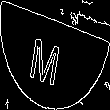M_N: (37, 25, 73, 85)
